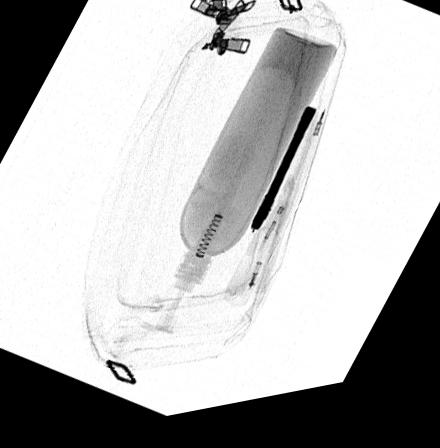Gun: (250, 116, 318, 241)
